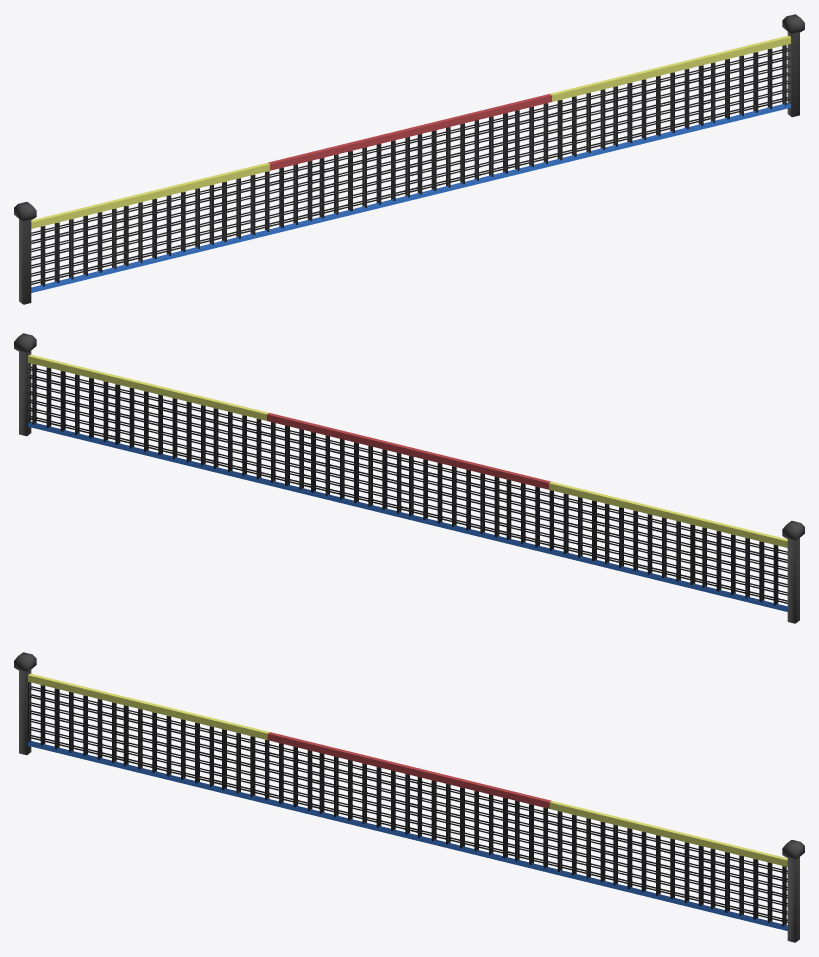
The model's file is Tennis Net.fbx.
3 renders of one model, top to bottom at view 1: azimuth 30°, elevation 25°; view 2: azimuth 150°, elevation 25°; view 3: azimuth 330°, elevation 25°, orthographic.
Parts seen in each view (by area): view 1: Plane, Plane.004; view 2: Plane, Plane.004; view 3: Plane, Plane.004.
Boxes of the visible parts, <box> form: Plane: <box>31,35,790,292</box>; Plane.004: <box>14,14,804,304</box>; Plane: <box>28,354,787,611</box>; Plane.004: <box>14,333,804,623</box>; Plane: <box>28,673,787,930</box>; Plane.004: <box>14,652,804,942</box>.
Size of the model in its own units: 1022 by 122 by 18.68.
